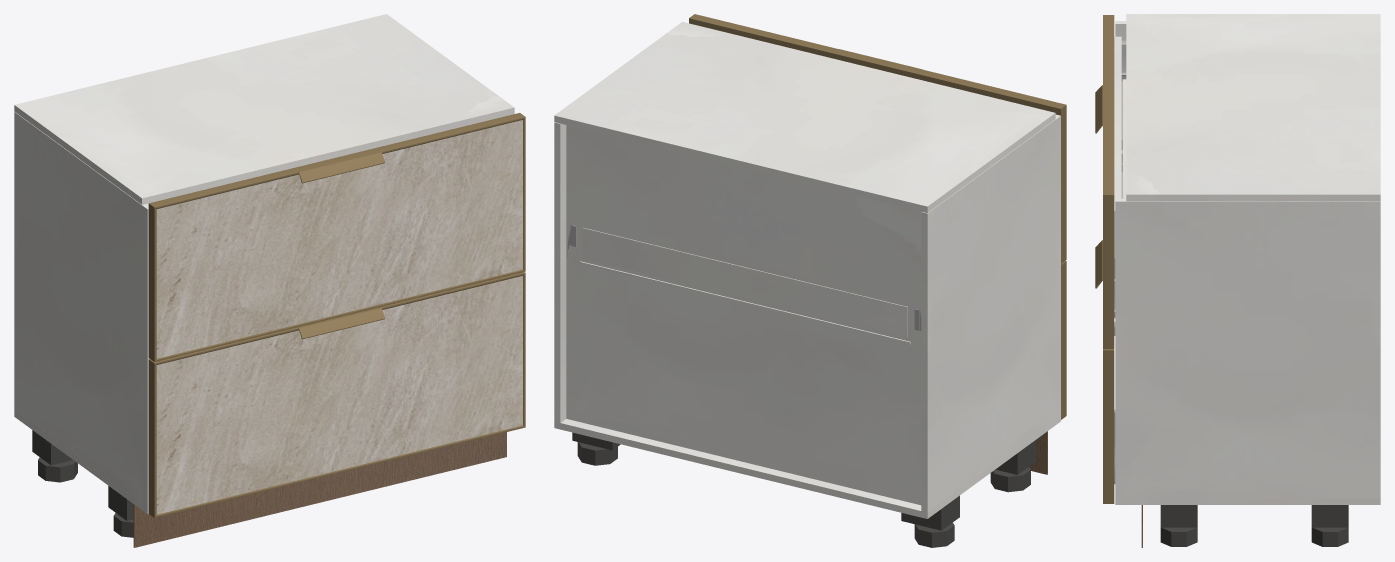
Rendered from BC-DW-TTS-ST-2HB-1BL-XXX-900-720-560-15.glb.
The picture shows the model from 3 angles, left to right: view 1: azimuth 30°, elevation 25°; view 2: azimuth 150°, elevation 25°; view 3: azimuth 270°, elevation 25°; orthographic projection.
Visible parts, largest first — view 1: Object_node_81, Object_node_83, TP_node_1, TP_node, Object_node_85, ExtrSplGeo_node, Extrusion_node_4, Extrusion_node_11, Extrusion_node_10, Extrusion_node_3, Extrusion_node_8, Extrusion_node_7 (+5 smaller); view 2: TP_node_9, TP_node_1, TP_node, TP_node_5, TP, TP_node_0, Extrusion_node_7, Extrusion_node_8, TP_node_4, ExtrSplGeo_node, Extrusion_node_11, Extrusion_node_4 (+5 smaller); view 3: TP_node_0, TP_node_1, TP, Extrusion_node_2, Extrusion_node_9, TP_node_8, Plate_node, Plate_node_1, Extrusion_node_7, Extrusion_node_8, ExtrSplGeo_node, Foot_node_1 (+3 smaller).
Boxes of the visible parts, bbox=[...] form: Object_node_81: bbox=[156, 276, 522, 514]; Object_node_83: bbox=[156, 120, 522, 358]; TP_node_1: bbox=[14, 14, 514, 204]; TP_node: bbox=[14, 111, 149, 507]; Object_node_85: bbox=[133, 432, 506, 547]; ExtrSplGeo_node: bbox=[293, 148, 385, 183]; Extrusion_node_4: bbox=[148, 359, 156, 517]; Extrusion_node_11: bbox=[148, 203, 156, 361]; Extrusion_node_10: bbox=[155, 269, 525, 361]; Extrusion_node_3: bbox=[155, 425, 525, 517]; Extrusion_node_8: bbox=[149, 168, 298, 209]; Extrusion_node_7: bbox=[376, 113, 525, 153]; TP_node_9: bbox=[566, 125, 921, 505]; TP_node_1: bbox=[554, 22, 1055, 212]; TP_node: bbox=[921, 114, 1060, 512]; TP_node_5: bbox=[583, 227, 907, 337]; TP: bbox=[554, 415, 1060, 518]; TP_node_0: bbox=[554, 122, 566, 422]; Extrusion_node_7: bbox=[689, 14, 838, 58]; Extrusion_node_8: bbox=[916, 69, 1066, 112]; TP_node_4: bbox=[580, 261, 910, 344]; ExtrSplGeo_node: bbox=[833, 49, 922, 78]; Extrusion_node_11: bbox=[1055, 105, 1066, 263]; Extrusion_node_4: bbox=[1061, 261, 1066, 419]; TP_node_0: bbox=[1115, 198, 1380, 498]; TP_node_1: bbox=[1126, 14, 1380, 201]; TP: bbox=[1115, 498, 1380, 504]; Extrusion_node_2: bbox=[1103, 350, 1114, 503]; Extrusion_node_9: bbox=[1103, 195, 1114, 348]; TP_node_8: bbox=[1114, 36, 1121, 258]; Plate_node: bbox=[1311, 505, 1348, 527]; Plate_node_1: bbox=[1160, 505, 1197, 527]; Extrusion_node_7: bbox=[1103, 125, 1114, 194]; Extrusion_node_8: bbox=[1103, 15, 1114, 84]; ExtrSplGeo_node: bbox=[1095, 85, 1114, 133]; Foot_node_1: bbox=[1160, 527, 1197, 546].
Size of what is drawn, in the model's own units: 0.9 by 0.82 by 0.6.
7 materials, 3 textured.
